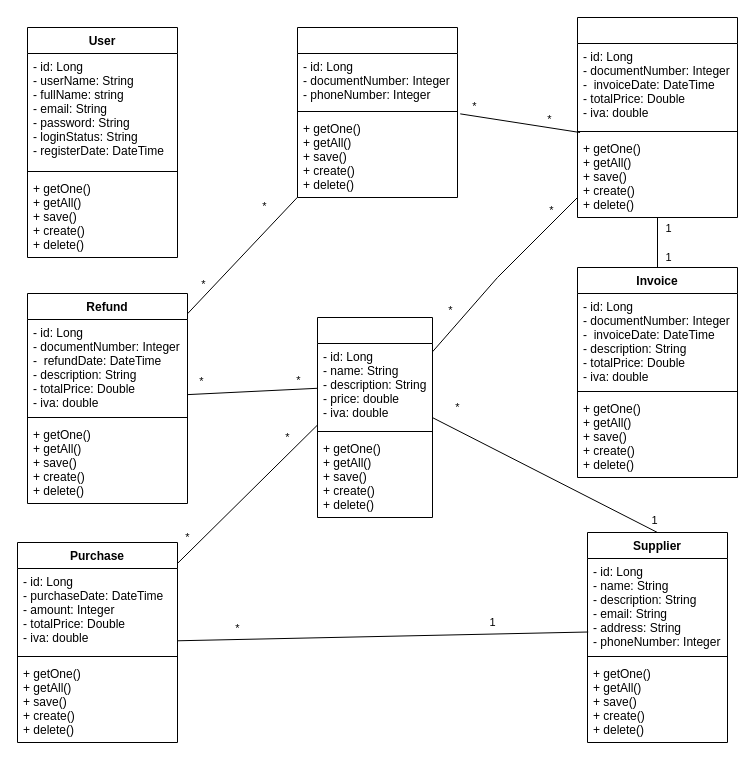
The diagram is 755 pixels wide and 763 high, and some of its shapes have lost their labels. The shapes that lost their labels are listed below. From the top down, each one's box as (x1, y1, x2, y2) in pixels, then its label:
(296, 26, 458, 198): Client
(576, 16, 738, 218): Sale
(316, 316, 432, 518): Product
